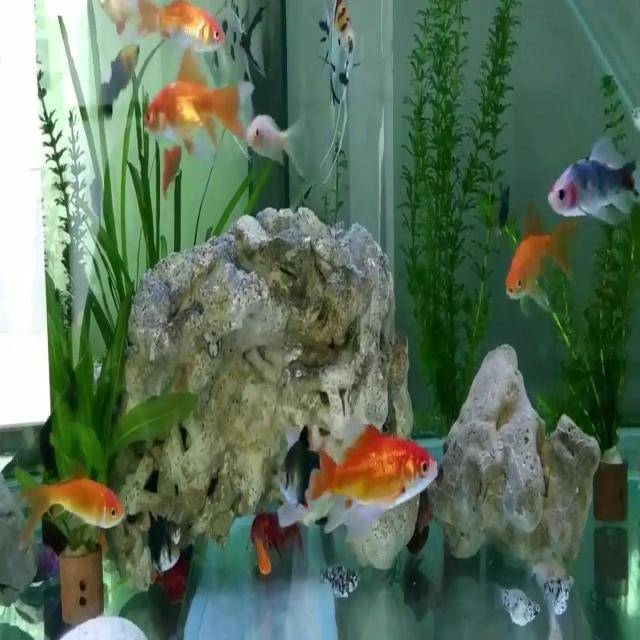GoldFish: (266, 418, 452, 548), (140, 47, 262, 153), (12, 458, 132, 548), (496, 198, 580, 320), (124, 0, 236, 60)
